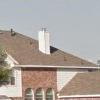Chimney: (32, 23, 62, 63)
